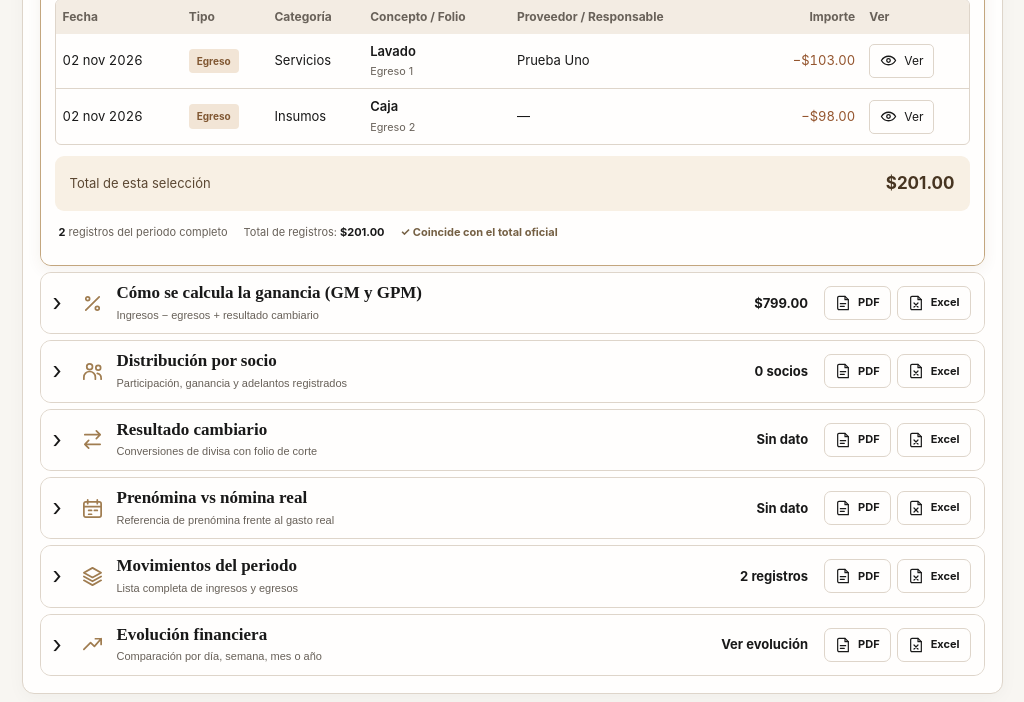
it: Resúmen abre secciones completas sin mostrar todas por defecto
(page scrolled)
Click the button "Distribución por socio": [197, 361] box 40,341 -> 818,402
(page scrolled)
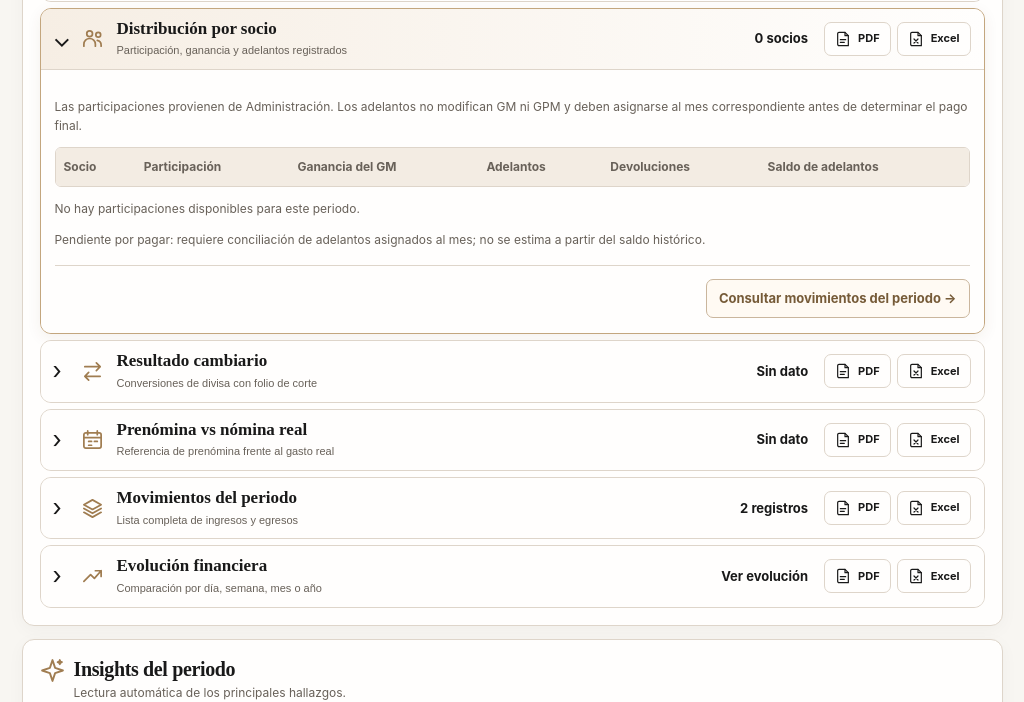
Expected: the button "Distribución por socio" is expanded, 40,9 -> 818,69
Click the button "Resultado cambiario": [192, 361] box 40,341 -> 818,402
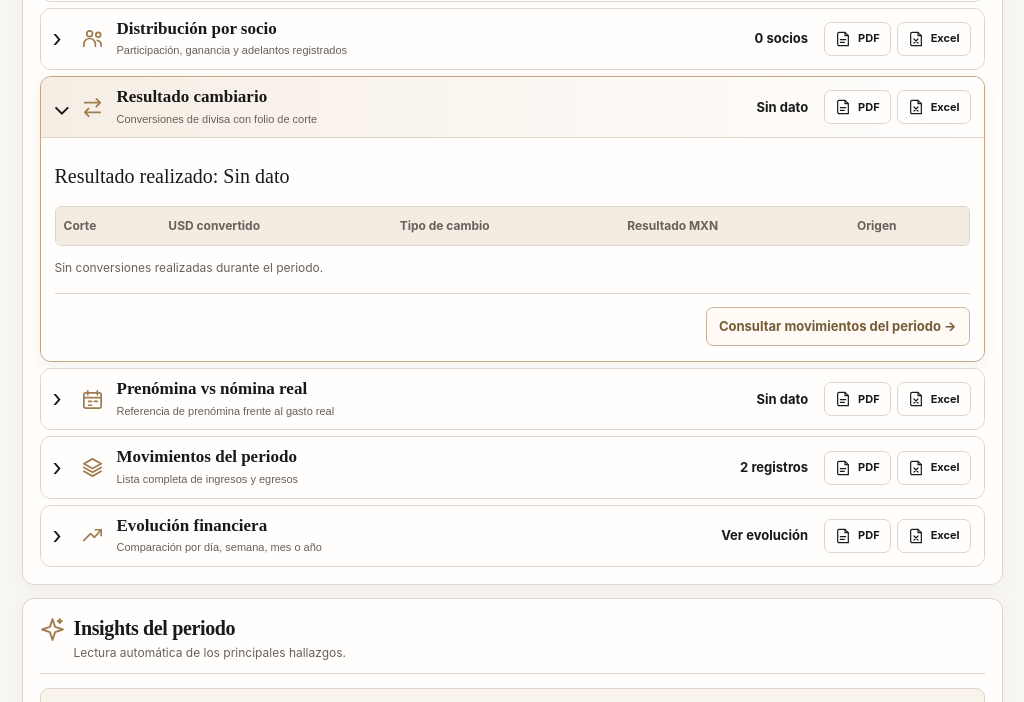
Expected: the button "Distribución por socio" is collapsed, 40,9 -> 818,69
